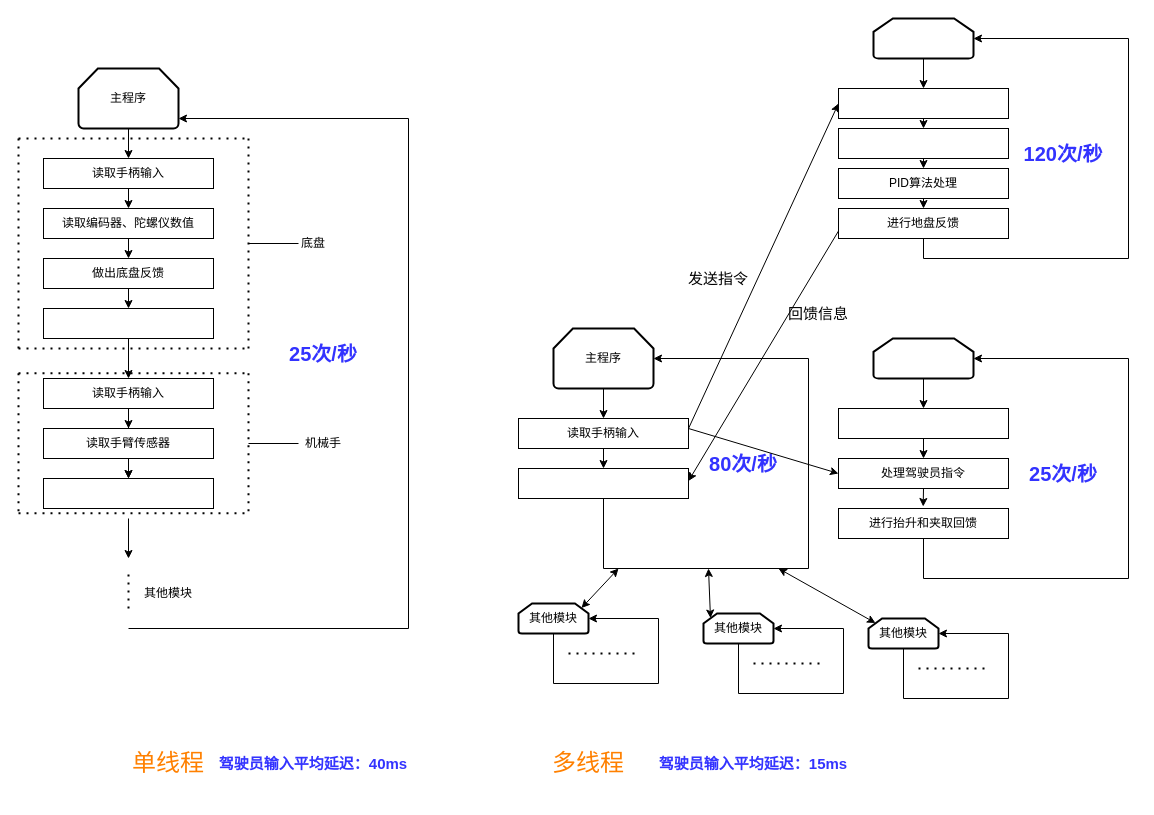
This 1154x815 diagram has some shape labels left out. Here are the shapes that lost their labels. From the top down, the box of each, then its label:
(872, 17, 974, 59): 底盘模块
(838, 88, 1008, 118): 读取传感器输入
(838, 128, 1008, 158): 视觉识别处理
(42, 308, 214, 338): 摄像头视觉识别
(872, 337, 974, 379): 机械手模块
(838, 408, 1008, 438): 读取机械手状态
(42, 478, 214, 508): 抬升结构与舵机反馈
(518, 468, 688, 498): 进行逻辑处理 （快捷键、按下、松开)
